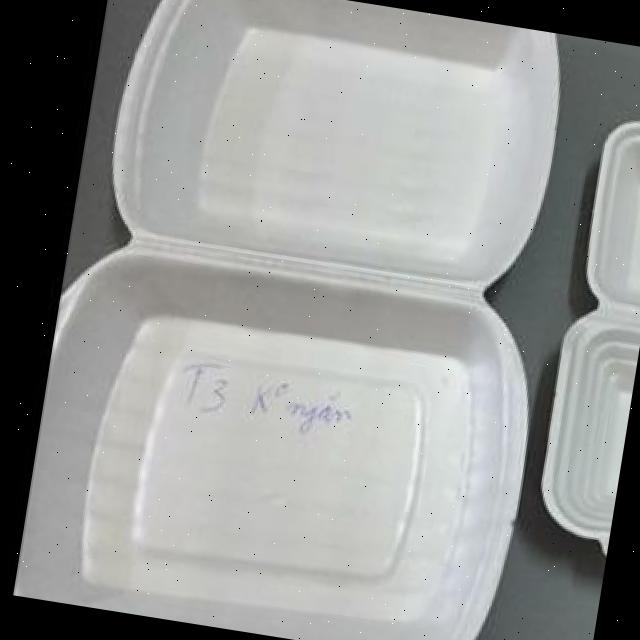styrofoam: (9, 0, 595, 640), (523, 104, 640, 571)
